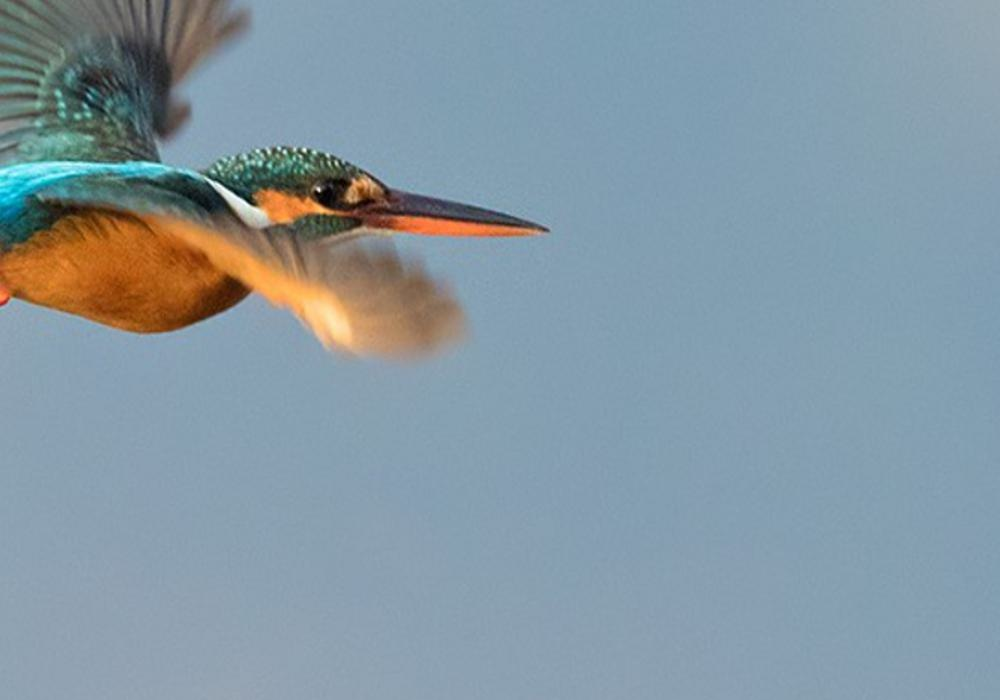kingfisher: (1, 4, 539, 393)
